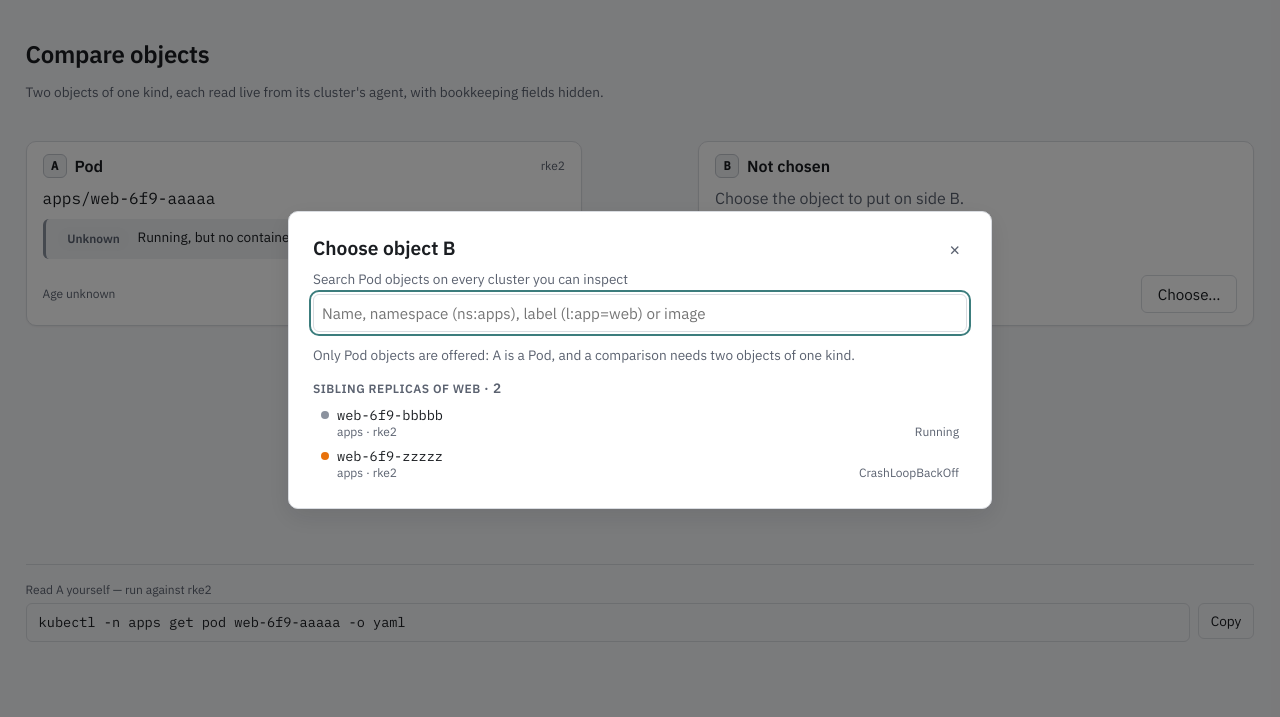
Test: ComparePage › opens B’s picker on arrival with the Pod’s sibling replicas, healthy first
Click the button "web-6f9-bbbbb apps · rke2 Running" at (390, 415), box [313,402,967,443]
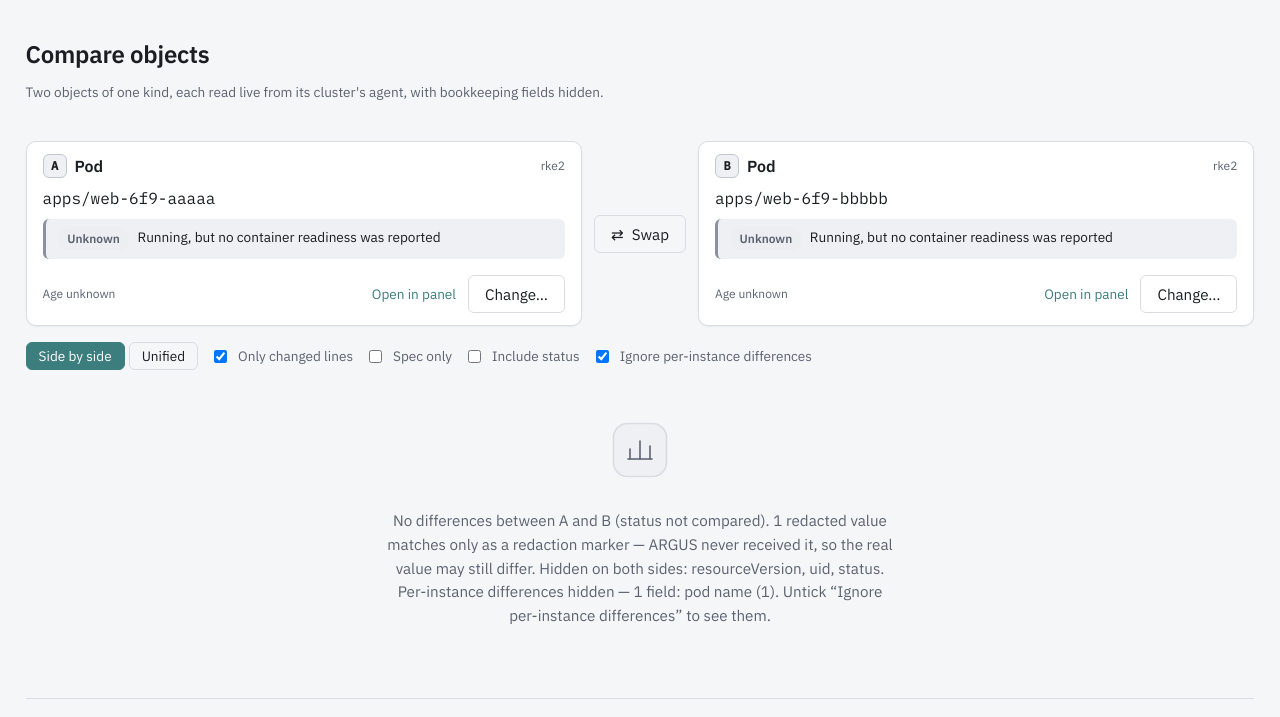
Expected: the dialog is gone
Expected: the text "apps/web-6f9-bbbbb" is shown, [715,188,888,208]
